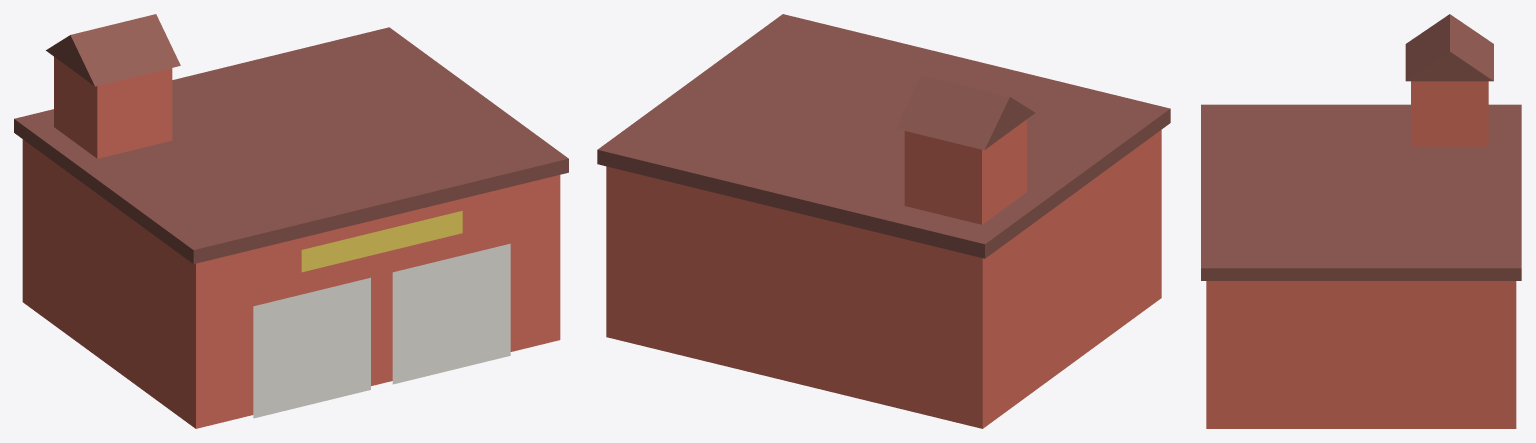
The model's file is small_fire_station.glb.
3 renders of one model, left to right at view 1: azimuth 30°, elevation 25°; view 2: azimuth 150°, elevation 25°; view 3: azimuth 270°, elevation 25°, orthographic. The views are drawn at different scales.
Visible parts, largest first — view 1: small_fire_station; view 2: small_fire_station; view 3: small_fire_station.
Part boxes in pixels (left/top/right/bottom): small_fire_station: left=14, top=14, right=568, bottom=428; small_fire_station: left=597, top=14, right=1170, bottom=428; small_fire_station: left=1201, top=14, right=1521, bottom=428.
Bounding box in the file's own units: 0.7 × 0.52 × 0.583.
